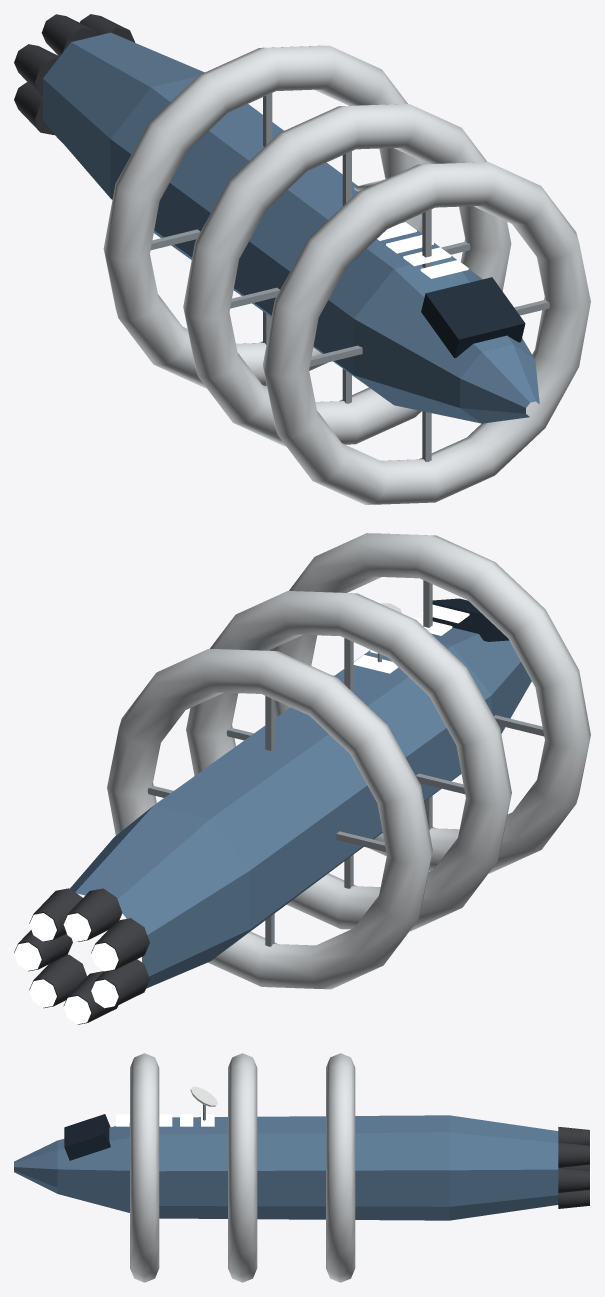
The model's file is space_ship_colony_transport_mk6.glb.
3 renders of one model, top to bottom at view 1: azimuth 30°, elevation 25°; view 2: azimuth 150°, elevation 25°; view 3: azimuth 270°, elevation 25°, orthographic. The views are drawn at different scales.
Parts seen in each view (by area): view 1: body, habitat_ring_2, habitat_ring_1, habitat_ring_0, engine_3, engine_2, engine_4, engine_1; view 2: body, habitat_ring_0, habitat_ring_1, habitat_ring_2, engine_3, engine_2, engine_6, engine_4, engine_1, engine_0, engine_5; view 3: body, habitat_ring_0, habitat_ring_1, habitat_ring_2, engine_0, engine_1, engine_6, engine_2, antenna_0.
Part boxes in pixels (x1,y1,x2,y2): body: (43, 32, 539, 423); habitat_ring_2: (263, 162, 590, 504); habitat_ring_1: (183, 104, 511, 446); habitat_ring_0: (103, 45, 427, 388); engine_3: (14, 44, 59, 95); engine_2: (41, 14, 97, 56); engine_4: (14, 82, 54, 134); engine_1: (79, 14, 135, 42); body: (70, 598, 531, 988); habitat_ring_0: (107, 649, 432, 989); habitat_ring_1: (186, 591, 511, 931); habitat_ring_2: (269, 533, 590, 873); engine_3: (91, 918, 149, 971); engine_2: (63, 888, 122, 941); engine_6: (29, 954, 86, 1008); engine_4: (91, 959, 149, 1008); engine_1: (29, 888, 82, 941); engine_0: (14, 930, 72, 971); engine_5: (63, 971, 118, 1024); body: (14, 1114, 558, 1220); habitat_ring_0: (326, 1053, 355, 1282); habitat_ring_1: (228, 1053, 257, 1282); habitat_ring_2: (130, 1053, 159, 1282); engine_0: (558, 1167, 590, 1192); engine_1: (558, 1142, 590, 1167); engine_6: (558, 1189, 590, 1208); engine_2: (558, 1126, 590, 1145); antenna_0: (190, 1086, 217, 1120).
Size of what is drawn, in the model's own units: 27.03 by 27.03 by 67.84.
